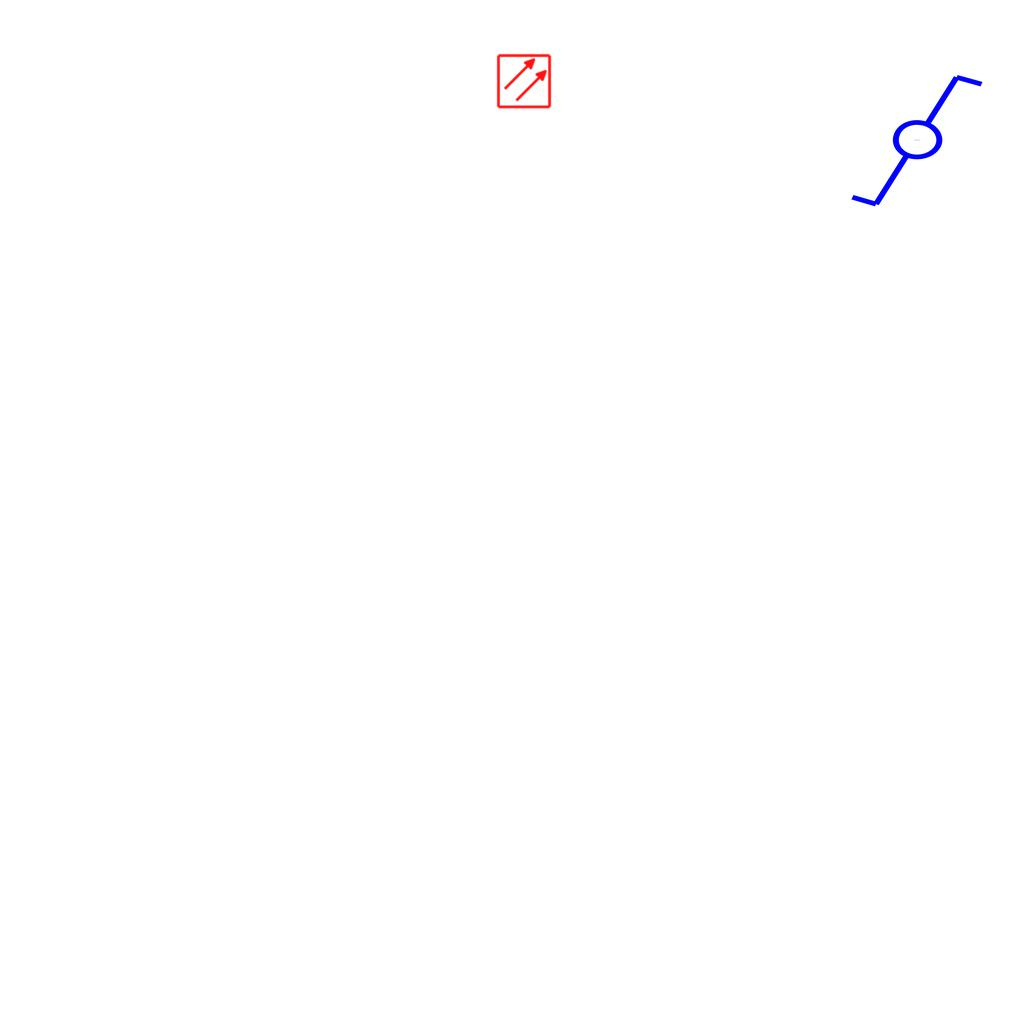RMO_Rauchmelder_optischer: (496, 53, 552, 109)
Wechselschalter: (847, 70, 1004, 214)
